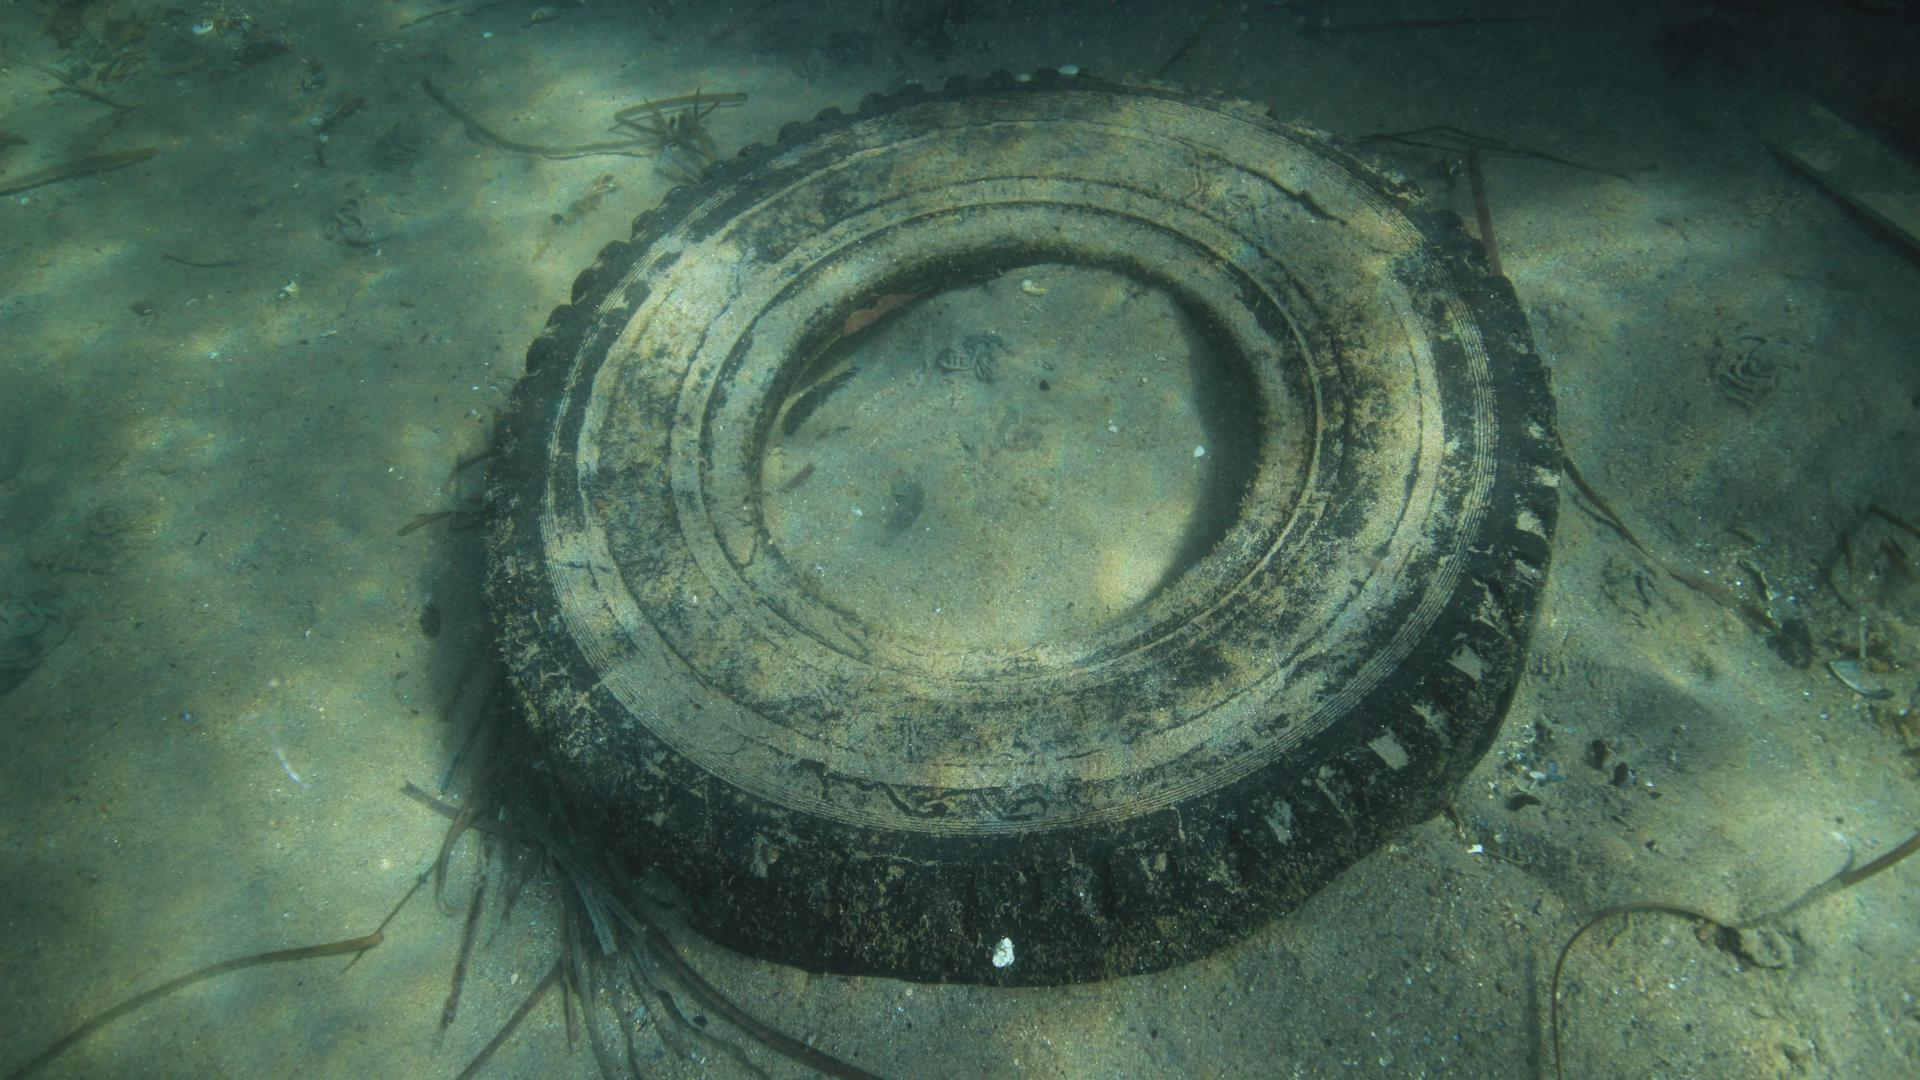tire: (480, 63, 1559, 985)
